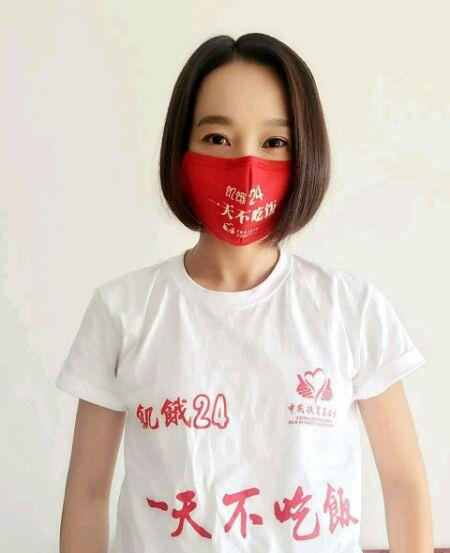OK: (185, 114, 309, 245)
